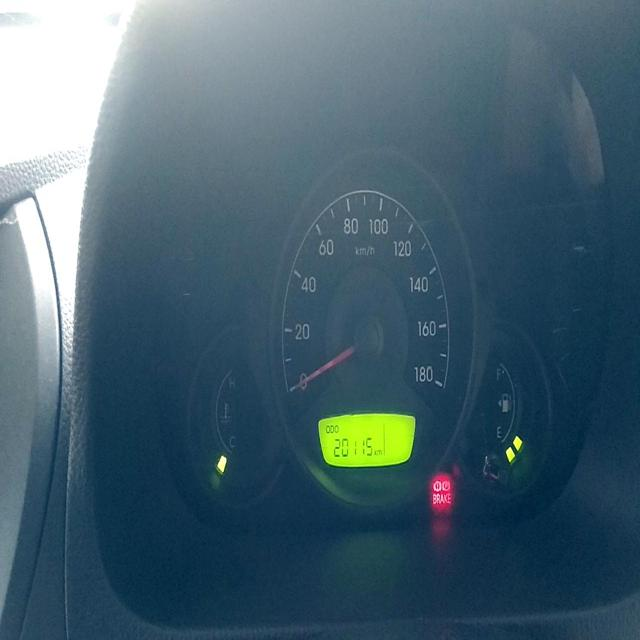odometer: (333, 435, 373, 458)
